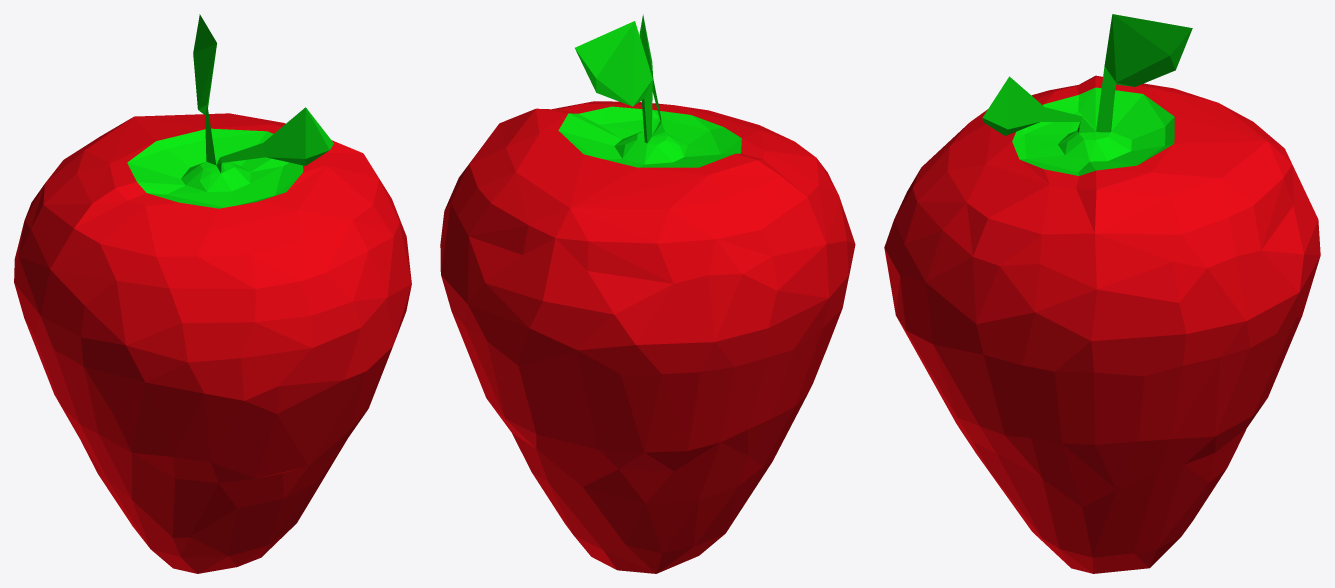
Rendered from strawberry.fbx.
The picture shows the model from 3 angles, left to right: view 1: azimuth 30°, elevation 25°; view 2: azimuth 150°, elevation 25°; view 3: azimuth 270°, elevation 25°; orthographic projection. The views are drawn at different scales.
Visible parts, largest first — view 1: Berry; view 2: Berry; view 3: Berry.
Boxes of the visible parts, box(x1,y1,x2,y2) form: Berry: box(14, 14, 411, 573); Berry: box(440, 14, 855, 573); Berry: box(884, 14, 1320, 573).
Bounding box in the file's own units: 319 × 459 × 326.
